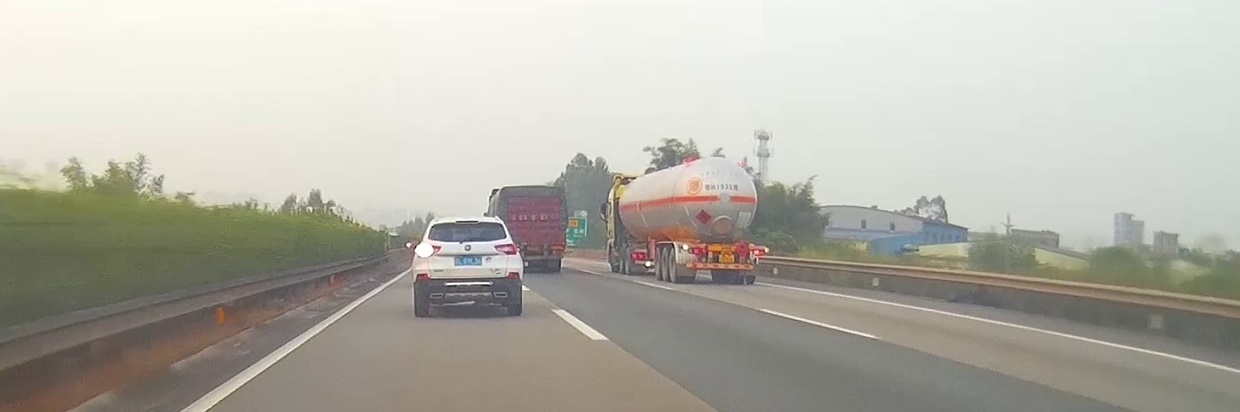L_light: (416, 243, 442, 257), (688, 248, 702, 254)
R_light: (494, 243, 517, 255), (750, 250, 764, 255)
T_light: (456, 220, 477, 223), (721, 244, 732, 249)
day-brake: (675, 242, 769, 285)
day-left: (413, 216, 524, 316)
